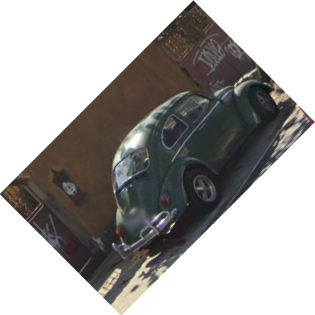car: (110, 80, 280, 264)
